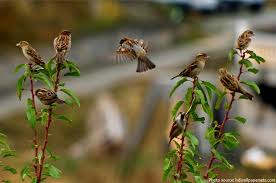hsparrow: (113, 35, 161, 76), (170, 48, 210, 85), (217, 65, 256, 102), (51, 26, 74, 67), (15, 38, 47, 67), (168, 109, 190, 146), (235, 26, 255, 61), (29, 86, 64, 103)
